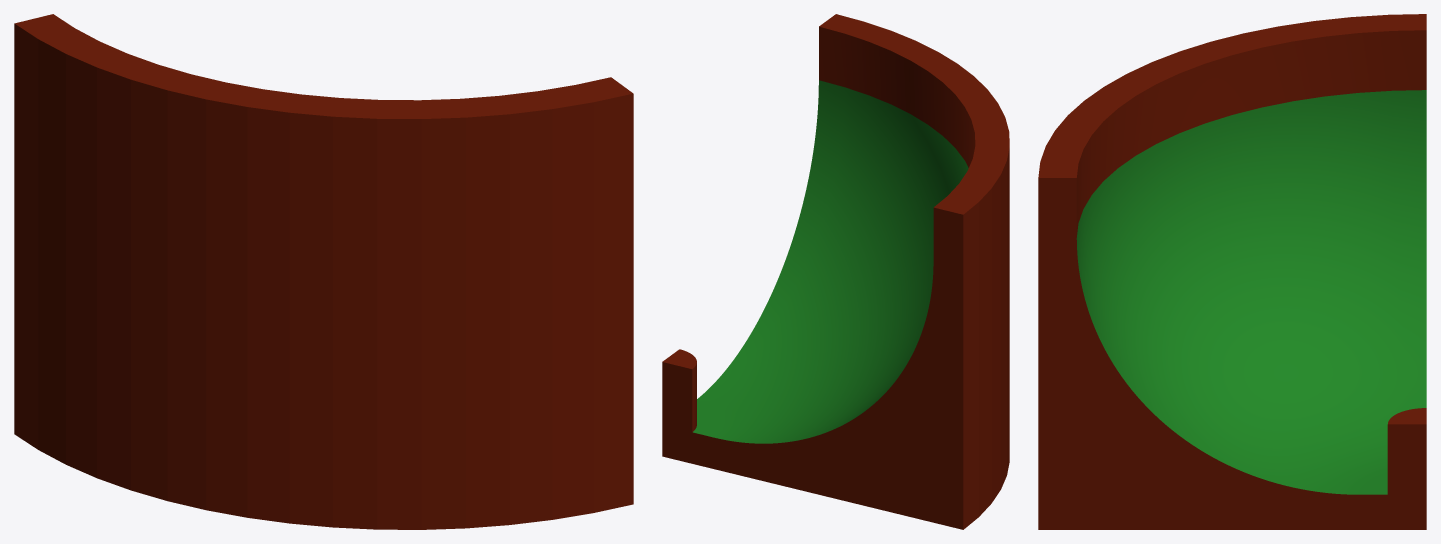
The model's file is BankedCorner.obj.
3 views of the same model, side by side, from view 1: azimuth 30°, elevation 25°; view 2: azimuth 150°, elevation 25°; view 3: azimuth 270°, elevation 25° (orthographic). The views are drawn at different scales.
Visible parts, largest first — view 1: BankedCorner; view 2: BankedCorner; view 3: BankedCorner.
Boxes of the visible parts, x1,y1,x2,y2 form: BankedCorner: (14,14,633,529); BankedCorner: (662,14,1009,529); BankedCorner: (1038,14,1426,529).
Size of the model in its own units: 2 by 2 by 2.
